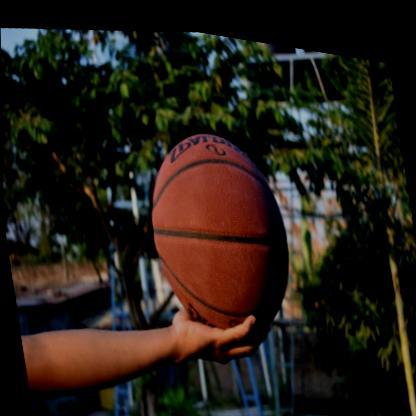basketball: (138, 108, 301, 340)
